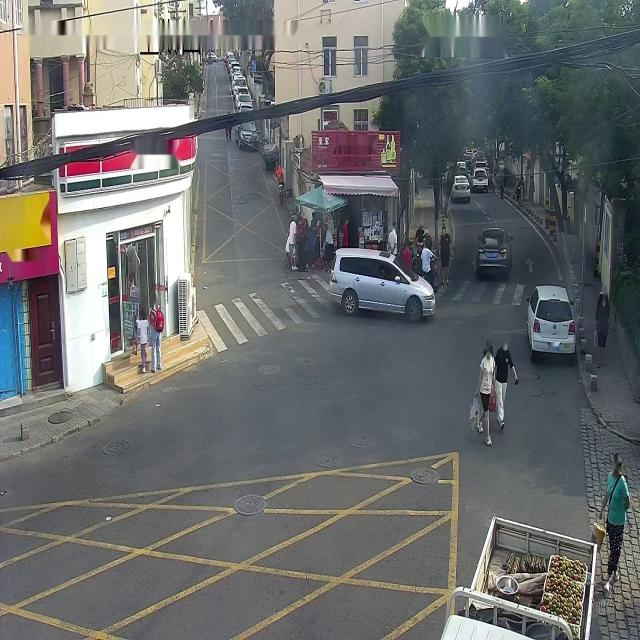car: (434, 509, 596, 637)
fixed_stall: (477, 506, 599, 635)
sunshade: (317, 171, 401, 198), (292, 180, 349, 214)
